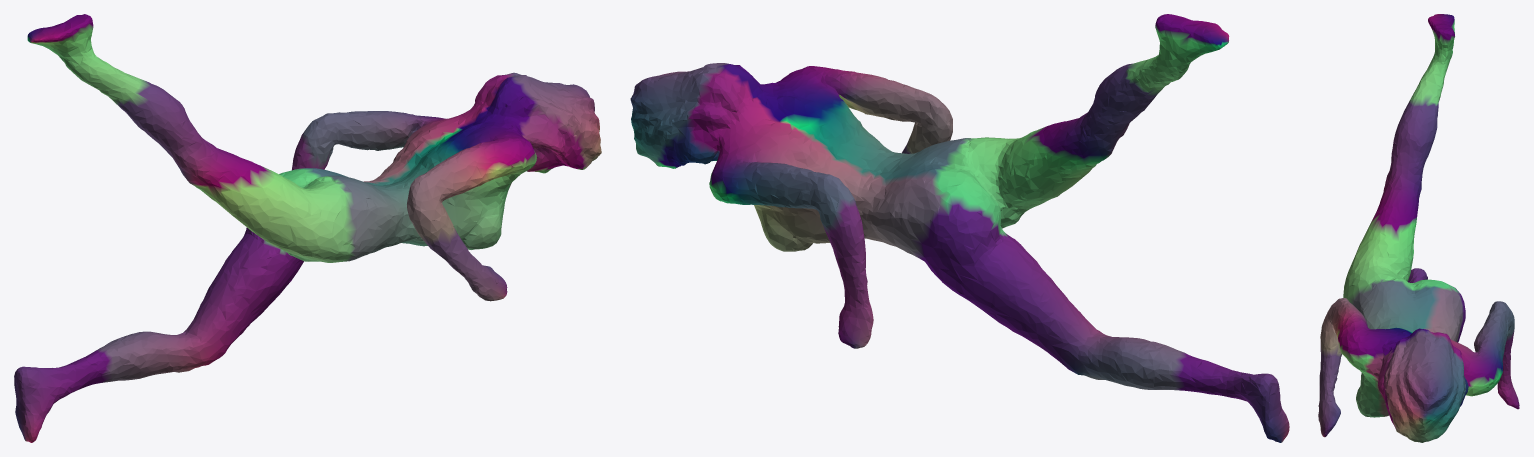
The model's file is woman-9.off.obj.
The picture shows the model from 3 angles, left to right: view 1: azimuth 30°, elevation 25°; view 2: azimuth 150°, elevation 25°; view 3: azimuth 270°, elevation 25°; orthographic projection. The views are drawn at different scales.
Bounding box in the file's own units: 1.43 × 0.9068 × 0.5058.
